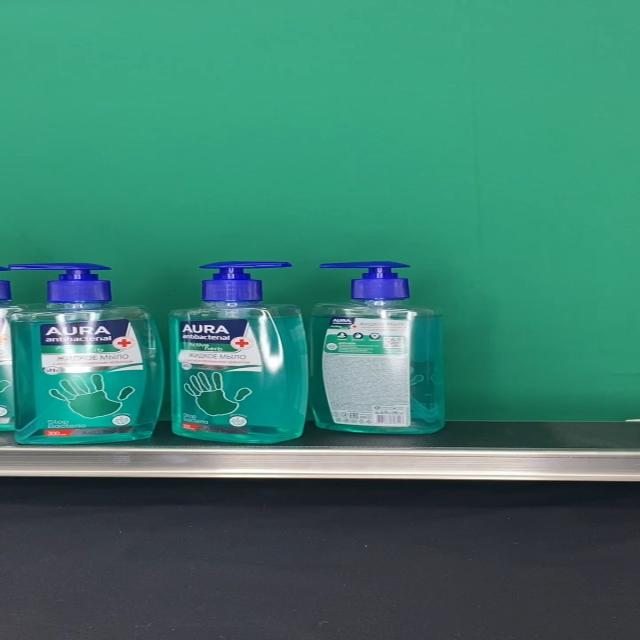Bottle: (8, 263, 164, 445), (172, 261, 308, 444), (308, 261, 445, 434)
Cap: (198, 261, 294, 302), (9, 263, 110, 301), (318, 261, 411, 301)
